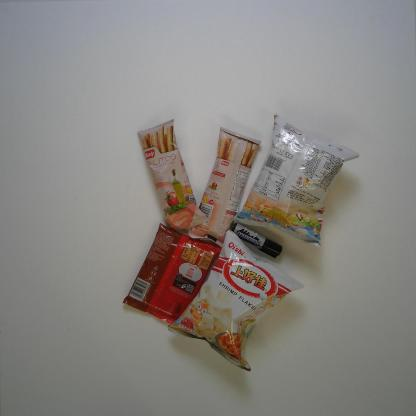Dessert: (121, 222, 222, 325), (187, 126, 262, 249), (136, 119, 210, 230)
Puffed Food: (166, 229, 307, 373), (232, 112, 361, 250)
Stationery: (231, 221, 284, 259)
